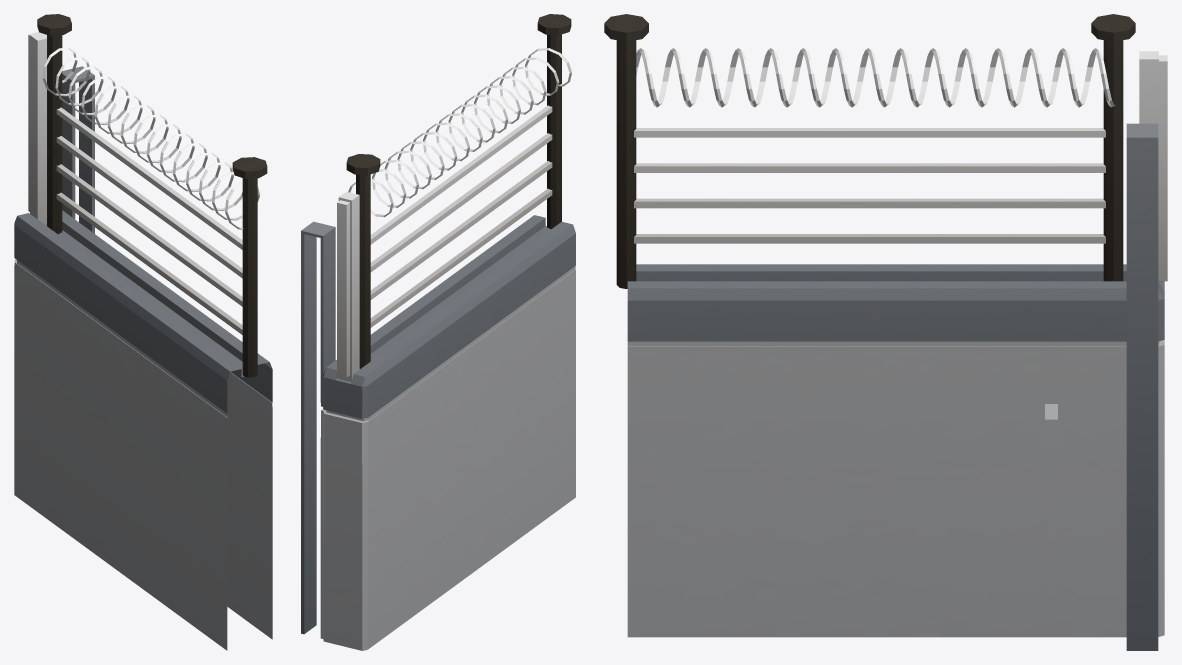
The model's file is muro4.fbx.
3 renders of one model, left to right at view 1: azimuth 30°, elevation 25°; view 2: azimuth 150°, elevation 25°; view 3: azimuth 270°, elevation 25°, orthographic. The views are drawn at different scales.
Parts seen in each view (by area): view 1: puertaDerecha1; view 2: puertaDerecha1; view 3: puertaDerecha1.
Part boxes in pixels (x1=…): puertaDerecha1: x1=14, y1=14, x2=272, y2=650; puertaDerecha1: x1=301, y1=14, x2=575, y2=650; puertaDerecha1: x1=604, y1=14, x2=1167, y2=650.
Size of the model in its own units: 343 by 2200 by 1873.
